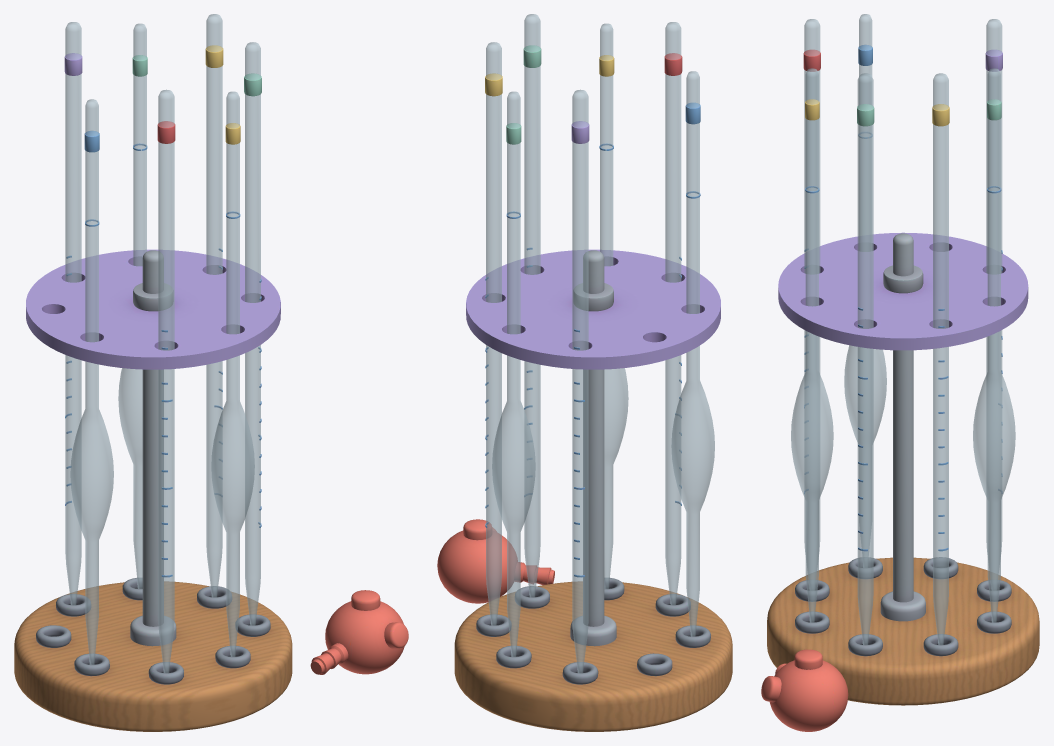
Rendered from pipette.glb.
3 renders of one model, left to right at view 1: azimuth 30°, elevation 25°; view 2: azimuth 150°, elevation 25°; view 3: azimuth 270°, elevation 25°, orthographic. The views are drawn at different scales.
Visible parts, largest first — view 1: pipette_body, pipette_pipettes_glass; view 2: pipette_body, pipette_pipettes_glass; view 3: pipette_body, pipette_pipettes_glass.
Boxes of the visible parts, x1,y1,x2,y2 form: pipette_body: (14, 45, 408, 731); pipette_pipettes_glass: (65, 14, 260, 673); pipette_body: (437, 45, 732, 731); pipette_pipettes_glass: (486, 14, 714, 673); pipette_body: (761, 45, 1039, 731); pipette_pipettes_glass: (791, 14, 1015, 644).
Bounding box in the file's own units: 0.191 × 0.3572 × 0.147.
Materials: 2 (1 with a texture image).
